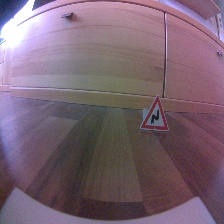vorsicht: (139, 94, 171, 134)
